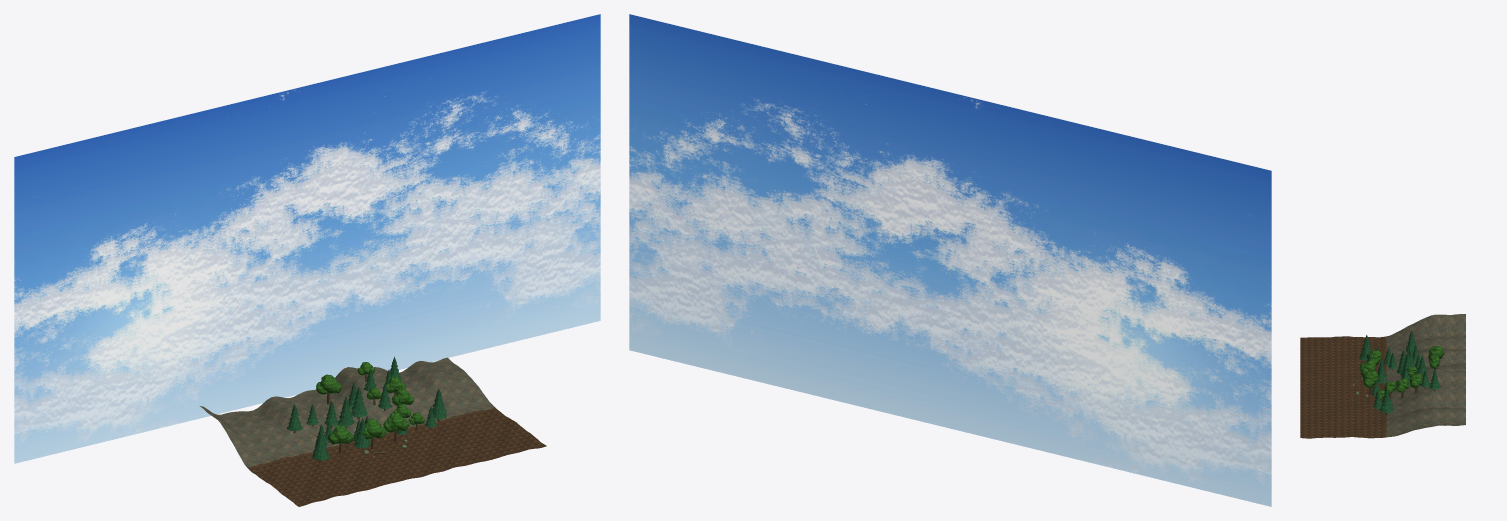
File: PROP_BG_FOREST.glb
The picture shows the model from 3 angles, left to right: view 1: azimuth 30°, elevation 25°; view 2: azimuth 150°, elevation 25°; view 3: azimuth 270°, elevation 25°; orthographic projection. The views are drawn at different scales.
Visible parts, largest first — view 1: PROP_BG_FOREST_0, PROP_BG_FOREST_1, PROP_BG_FOREST_2; view 2: PROP_BG_FOREST_0; view 3: PROP_BG_FOREST_1, PROP_BG_FOREST_2.
Boxes of the visible parts, box(x1,y1,x2,y2) form: PROP_BG_FOREST_0: box(14, 14, 600, 463); PROP_BG_FOREST_1: box(247, 407, 546, 506); PROP_BG_FOREST_2: box(200, 357, 494, 467); PROP_BG_FOREST_0: box(629, 14, 1271, 506); PROP_BG_FOREST_1: box(1300, 336, 1386, 438); PROP_BG_FOREST_2: box(1386, 314, 1465, 437).
Size of the model in its own units: 170 by 85.36 by 58.
10 materials, 7 textured.
